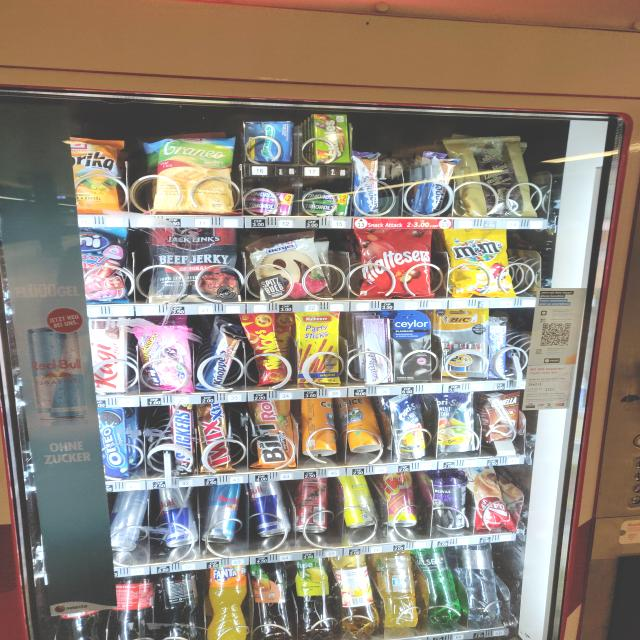7days_croissantschoko_packung_80_1_0000000000003: (469, 467, 515, 535)
airwaves_menthoneucalyptus_riegel_14_1_50173167: (241, 119, 296, 164)
bifi_roll__50__4251097402635: (252, 400, 296, 470)
c-swiss_dosenabisicetea__33__9120025930135: (302, 398, 341, 455), (346, 396, 380, 454)
caferoyal_classicmacchiato__33__7617014164487: (431, 471, 473, 532)
caprisun_multivitamin__20__4000177605004: (430, 391, 480, 454), (388, 392, 432, 459)
coke__dose_33__54491472: (294, 473, 334, 535)
coke__flasche_50__54491472: (108, 574, 156, 640)
coke_zero_flasche_50__5449000131836: (159, 567, 203, 640)
comella_schokodrink__33__7613100037253: (480, 392, 520, 443)
fanta___50__40822938: (204, 563, 252, 640)
fini_galaxymix_packung_100_1_8410525150364: (72, 228, 132, 304)
fini_jellykisses_packung_80_1_8410525116704: (137, 322, 194, 394)
fuse_lemon__50__5449000235947: (294, 556, 332, 639)
fuse_lemon_dose_33__5449000235947: (342, 474, 378, 530)
fuse_peach__50__5449000236623: (256, 560, 298, 639)
jacklinks_beefjerkyorginal__25__4047751730219: (148, 226, 237, 307)
jlbrichard_gauffrechoko__90__5410495002079: (451, 136, 532, 220)
kagi___50__7610046000259: (85, 318, 134, 393)
knoppers_riegel____4035800488808: (199, 331, 241, 393)
lorenz_nicnacs__40__4018077798818: (246, 312, 285, 383)
malburner_partysticks__40__7610200279682: (292, 312, 342, 387)
maltesers___100__5000159023061: (358, 227, 436, 301)
mnms_gelb__45__40111445: (451, 227, 514, 299)
oreo___66__84100733: (99, 406, 133, 485)
ramseier_schorle__50__7610057012456: (331, 552, 382, 632)
redbull___33__90162909: (108, 490, 152, 554), (155, 488, 201, 548), (256, 481, 288, 538)
redbull_light__33__90162800: (201, 485, 246, 543)
skittles_sour_riegel_51_1_0000000000004: (313, 112, 353, 166)
snickers___50__5000159461122: (172, 401, 194, 477)
stimorol_spearmint_riegel_14_1_0000000000005: (302, 191, 350, 217)
stimorol_wildcherry_riegel_14_1_57060330: (243, 188, 298, 215)
tiki_himbeer_brause__50__00000000009342: (380, 471, 420, 530)
twix___50__5000159459228: (196, 400, 236, 476)
valser_classic__50__76404160: (417, 545, 464, 624)
valser_still__50__7610335002575: (455, 541, 508, 622)
volvic_pinapple__50__305764335648: (380, 552, 420, 628)
zweifel_graneochilli__100__7610095184009: (149, 136, 236, 212)
zweifel_paprika__90__7610095013002: (54, 136, 128, 213)
